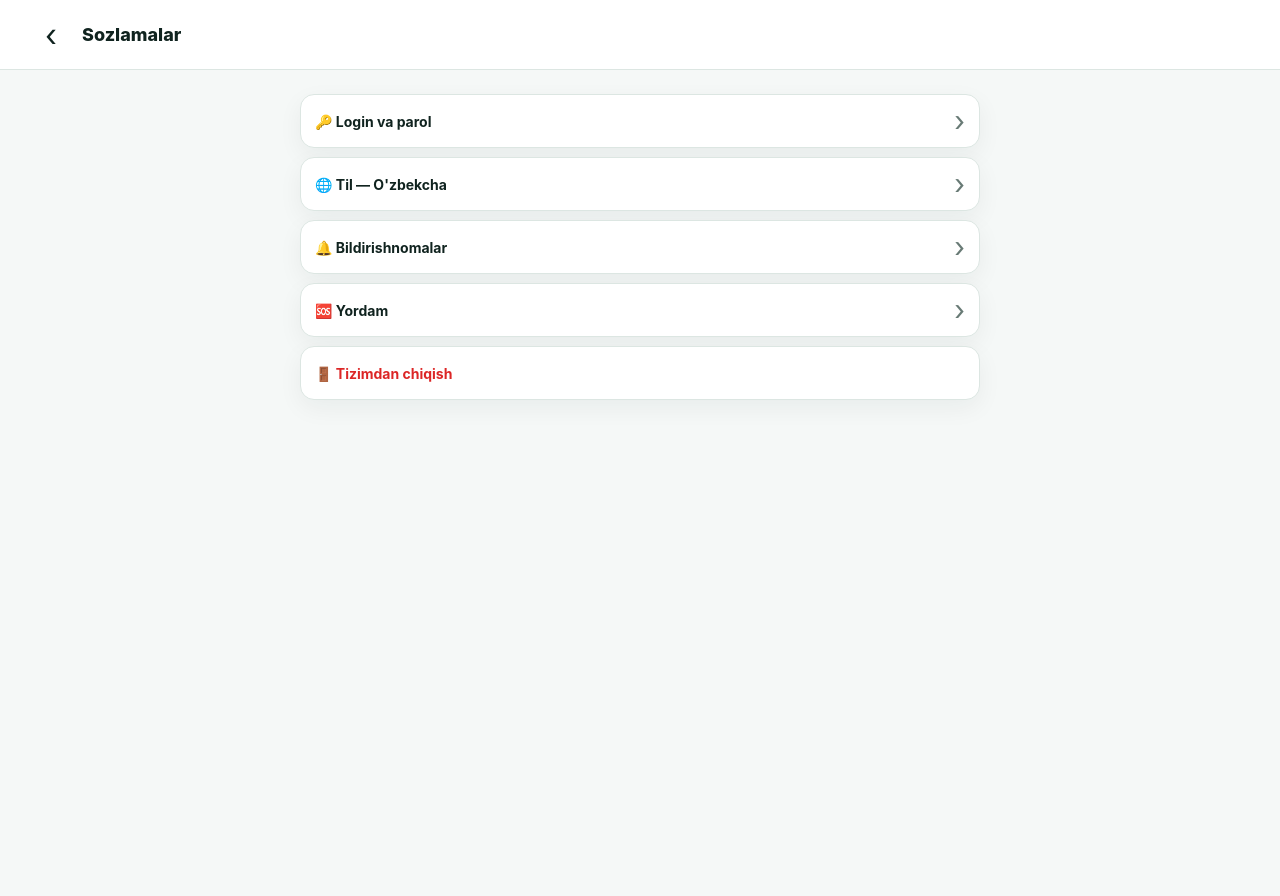
Test: AccountSettings › renders the v1656 FAQ as accessible expandable answers
Click the button "🆘 Yordam" at (352, 310), box [300,283,980,337]
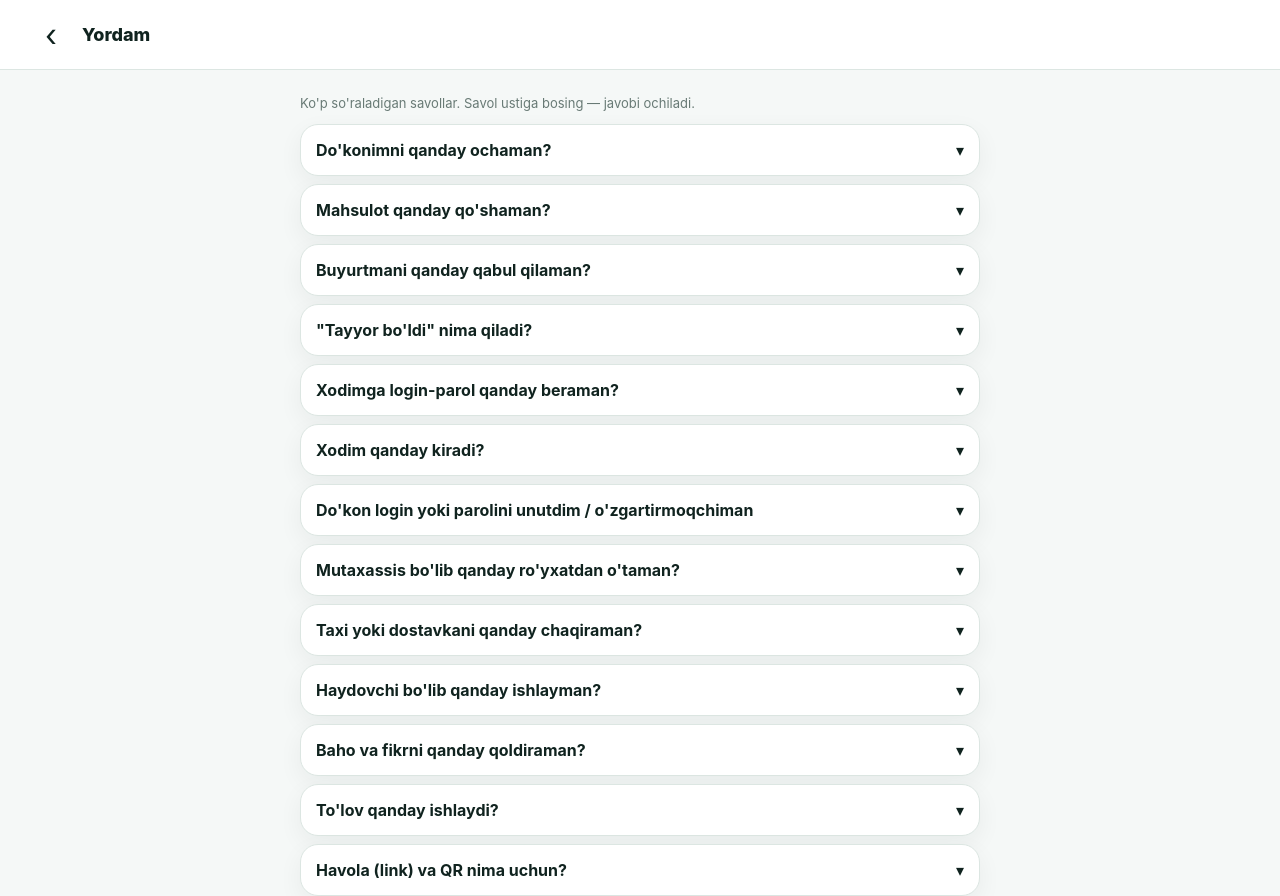
Click the button "Do'konimni qanday ochaman? ▾" at (434, 150), box [301,124,979,174]
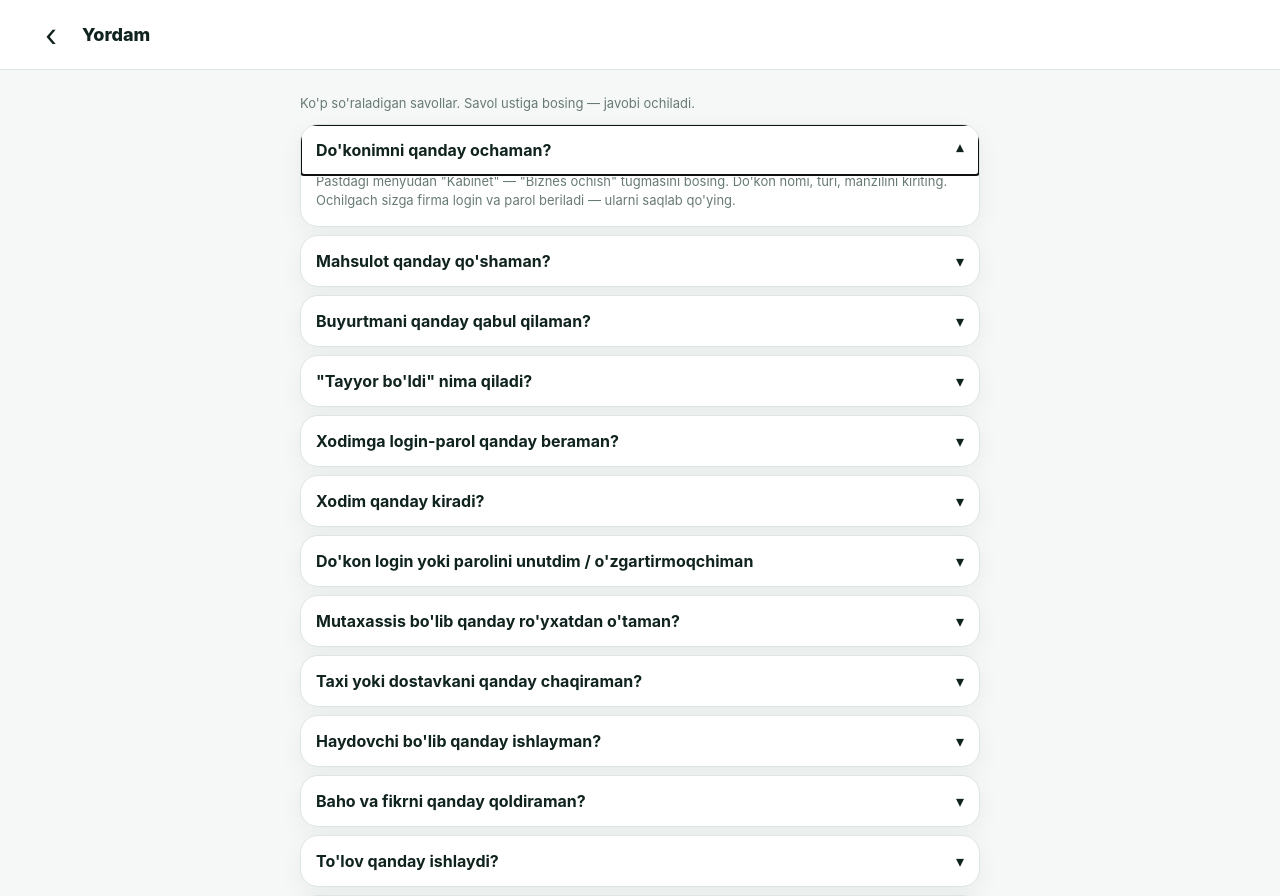
Check: the button "Do'konimni qanday ochaman? ▾" is expanded, box [301,124,979,174]
Check: the text "Biznes ochish" is shown, box [316,172,947,208]
